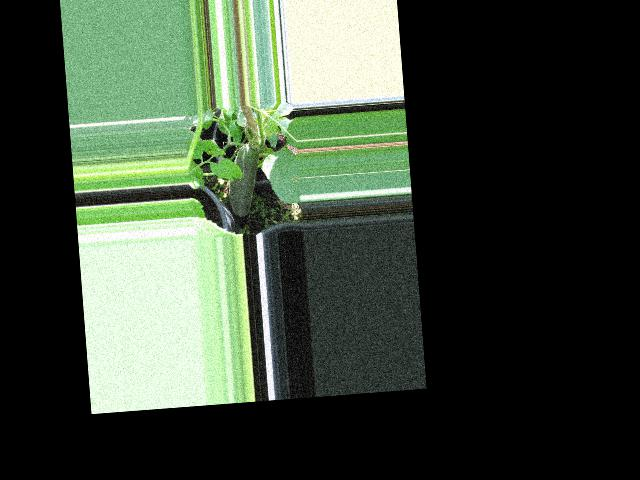cucumber: (225, 142, 263, 217)
